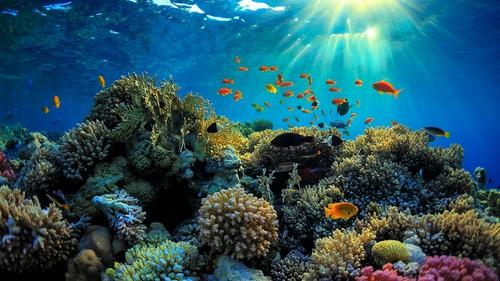bleached_corals: (51, 67, 216, 184), (330, 116, 482, 221), (183, 173, 291, 275), (0, 184, 78, 273), (45, 110, 122, 186), (299, 210, 379, 281), (89, 177, 158, 249), (105, 240, 198, 281)
